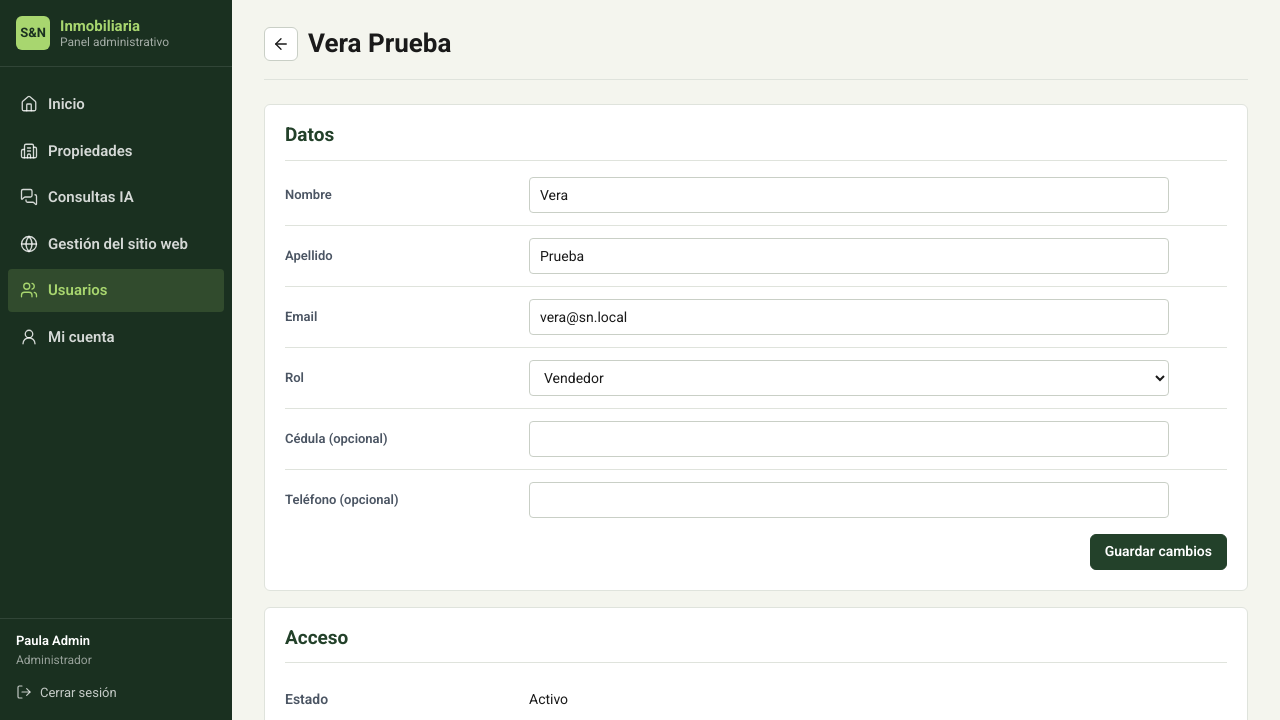
Botón Volver › si la página se abrió directamente, lleva a su sección sin salir del panel
Expected: the field labelled "Nombre" holds "Vera", [529,176,1169,212]
Click the button named "Volver a la pantalla anterior" at (281, 44), box [264,26,298,60]
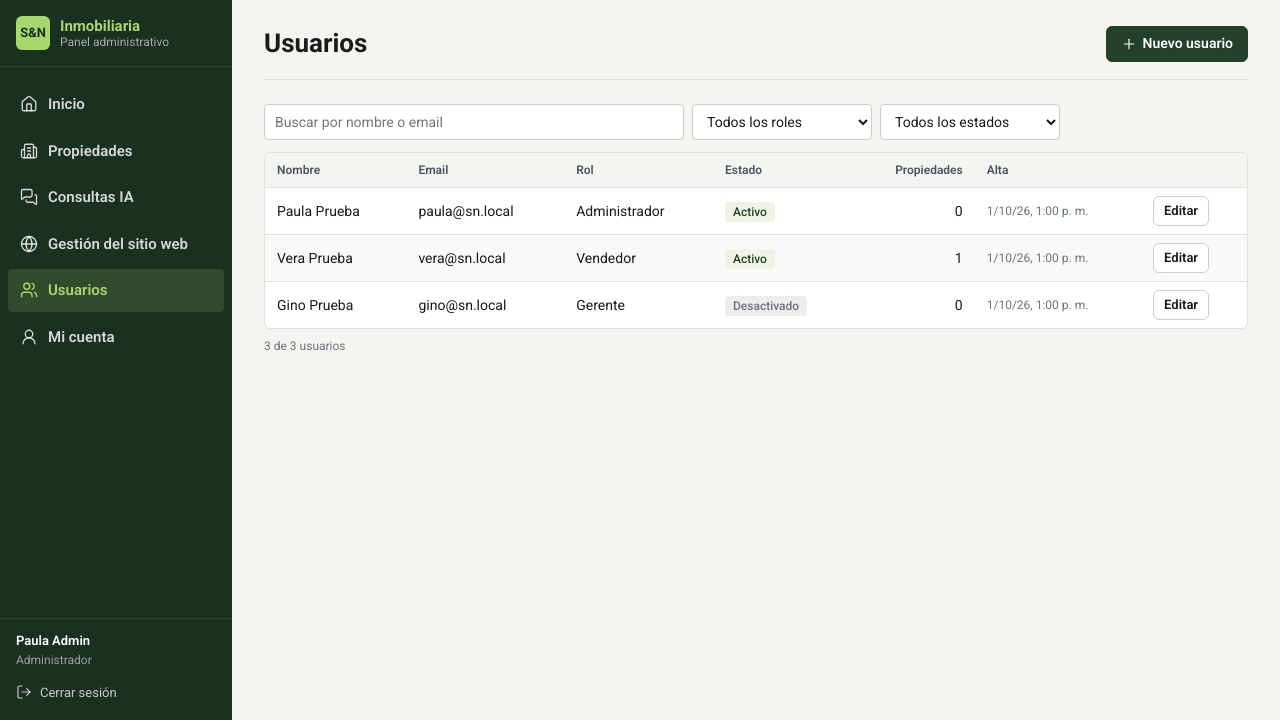
Now the text "vera@sn.local" is shown, box [406,234,564,282]
